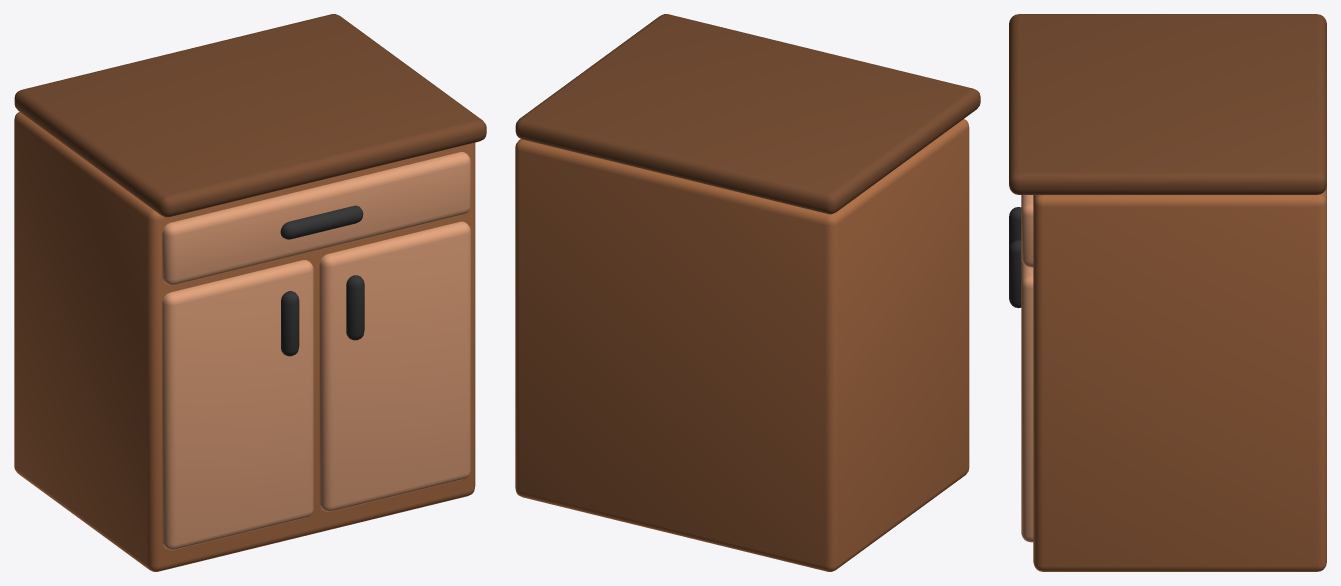
File: tumba_80x60x85_1.glb
3 renders of one model, left to right at view 1: azimuth 30°, elevation 25°; view 2: azimuth 150°, elevation 25°; view 3: azimuth 270°, elevation 25°, orthographic. The views are drawn at different scales.
Parts seen in each view (by area): view 1: Cube.036; view 2: Cube.036; view 3: Cube.036.
Boxes of the visible parts, <box> form: Cube.036: <box>14,14,486,571</box>; Cube.036: <box>515,14,980,571</box>; Cube.036: <box>1009,14,1326,571</box>.
Bounding box in the file's own units: 0.8 × 0.9 × 0.65.
